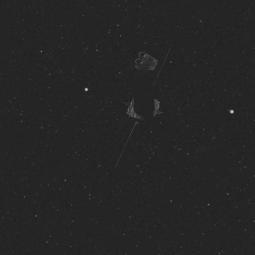xmm_newton: (105, 36, 225, 166)
